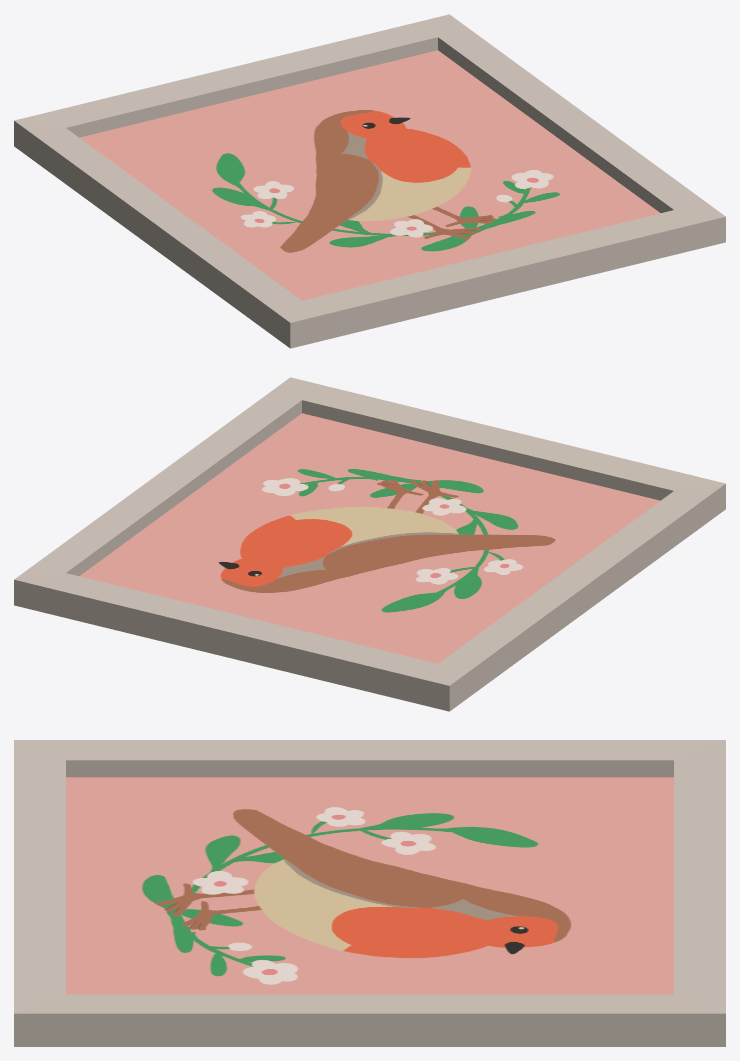
File: bird_pictue.fbx
3 renders of one model, top to bottom at view 1: azimuth 30°, elevation 25°; view 2: azimuth 150°, elevation 25°; view 3: azimuth 270°, elevation 25°, orthographic. The views are drawn at different scales.
Parts seen in each view (by area): view 1: Plane.007; view 2: Plane.007; view 3: Plane.007.
Part boxes in pixels (x1,y1,x2,y2): Plane.007: (14,14,725,348); Plane.007: (14,377,725,711); Plane.007: (14,740,725,1046).
Size of the model in its own units: 182 by 10.28 by 200.
2 materials, 1 textured.
